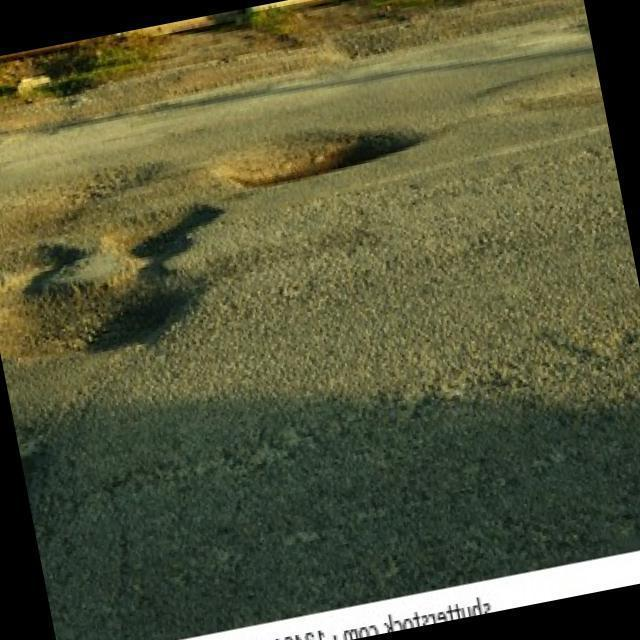Pothole: (2, 163, 232, 360), (217, 133, 414, 188), (470, 52, 605, 112)
